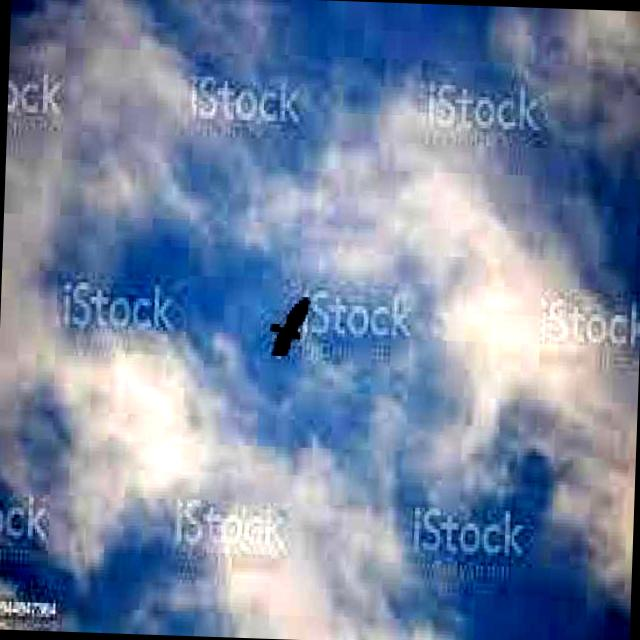bird: (264, 294, 310, 362)
